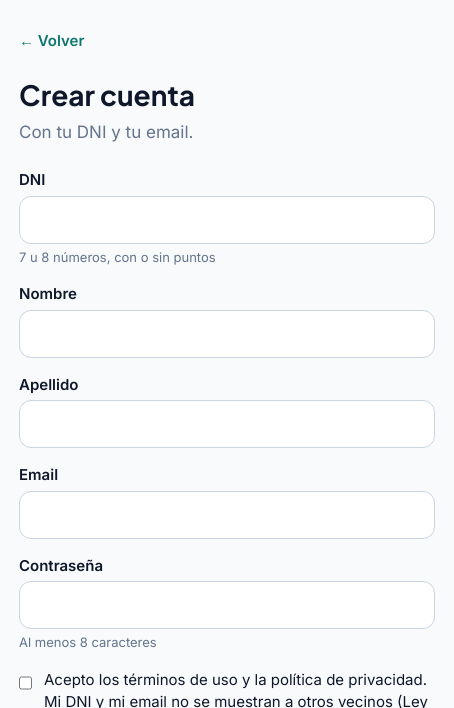
Test: Registro (CU-01) › muestra el error del backend sin perder lo cargado (CU-01 3a)
The width and height of the screenshot is (454, 708).
Type "30123456" into the field labelled "DNI".
click(227, 220); type("30123456")  # box [19, 196, 435, 244]
Type "Ana" into the field labelled "Nombre".
click(227, 334); type("Ana")  # box [19, 310, 435, 358]
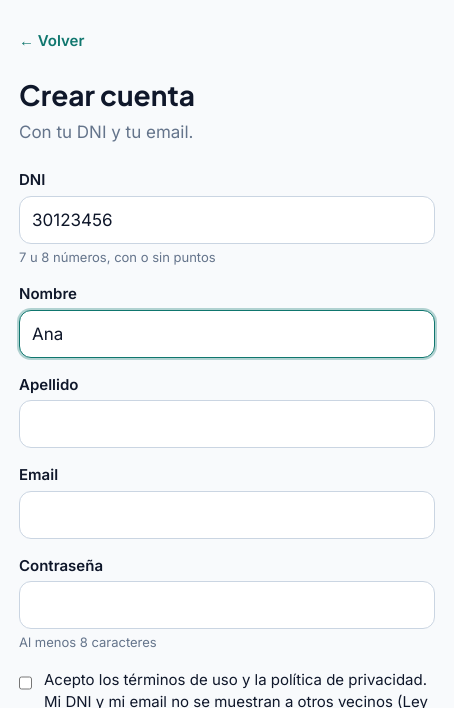
Type "Pérez" into the field labelled "Apellido".
click(227, 424); type("Pérez")  # box [19, 400, 435, 448]
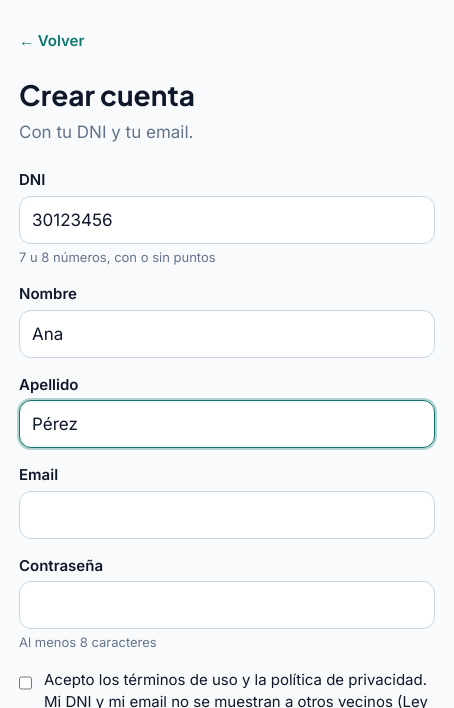
Type "ana@ejemplo.com" into the field labelled "Email".
click(227, 514); type("ana@ejemplo.com")  # box [19, 490, 435, 538]
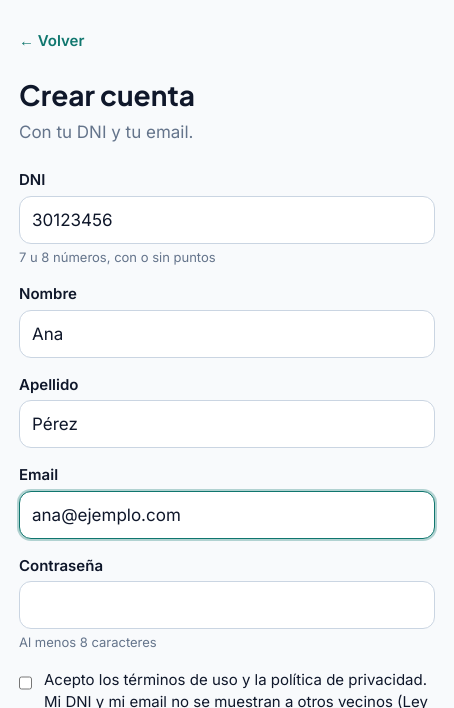
Type "una-clave-segura" into the password field labelled "Contraseña".
click(227, 605); type("una-clave-segura")  # box [19, 581, 435, 629]
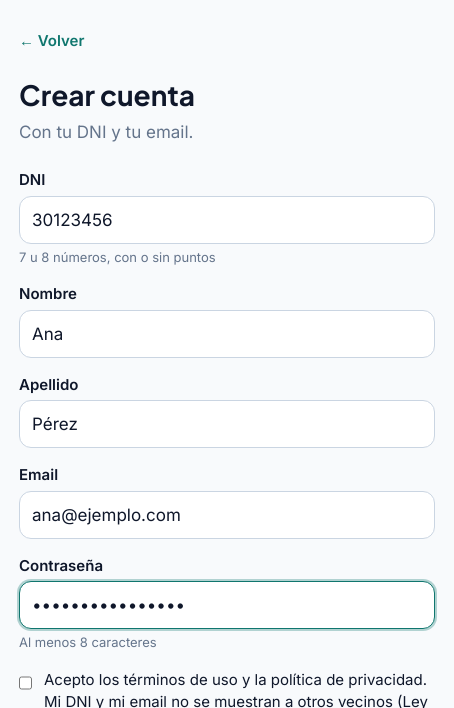
Click the checkbox.
click(26, 682)  # box [19, 672, 32, 692]
(page scrolled)
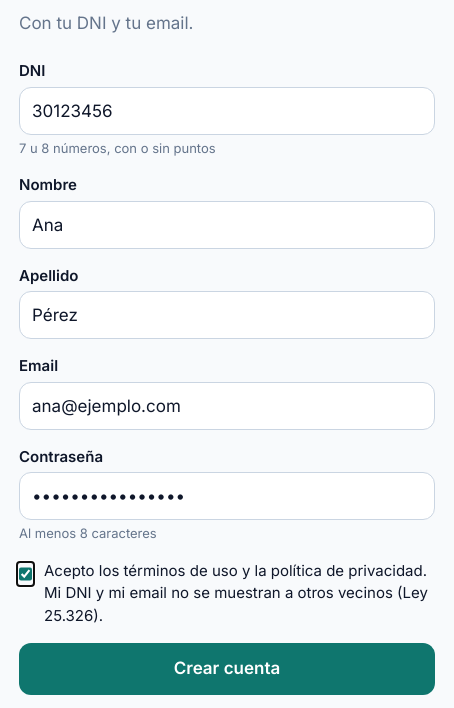
Click the button "Crear cuenta".
click(227, 669)  # box [19, 643, 435, 695]
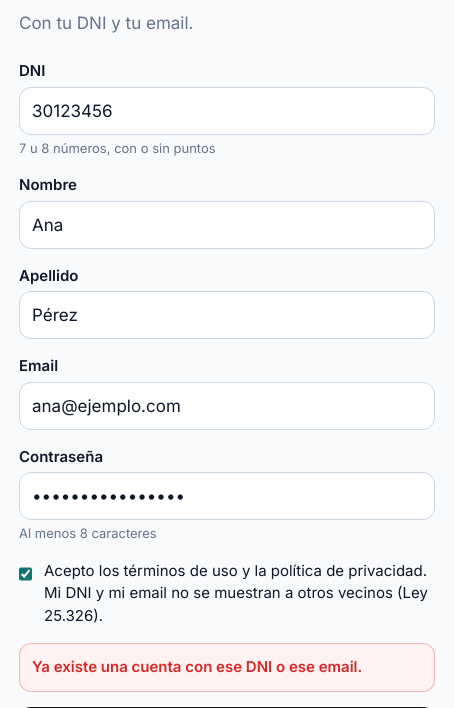
Now the message shows "Ya existe una cuenta", box [32, 657, 362, 676]
